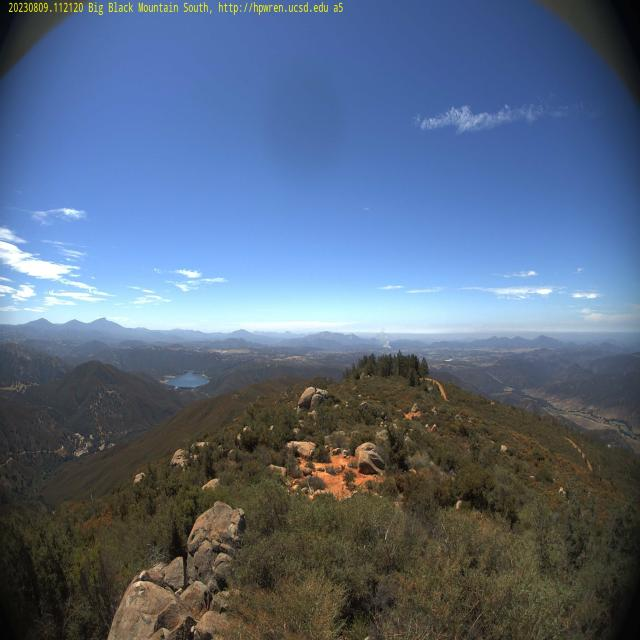smoke: (377, 325, 393, 353)
